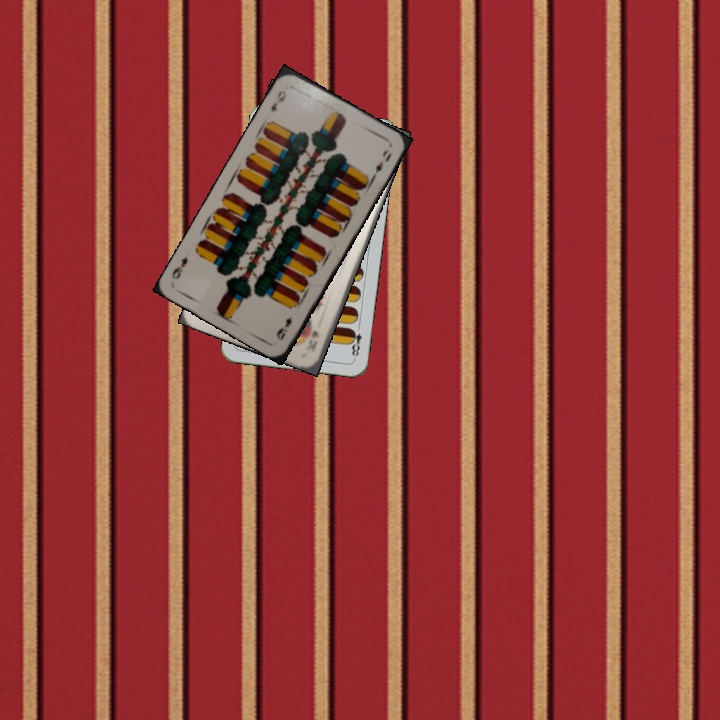E8: (346, 321, 364, 361)
E9: (272, 313, 294, 343), (266, 86, 289, 114)
SK: (306, 326, 322, 354)
